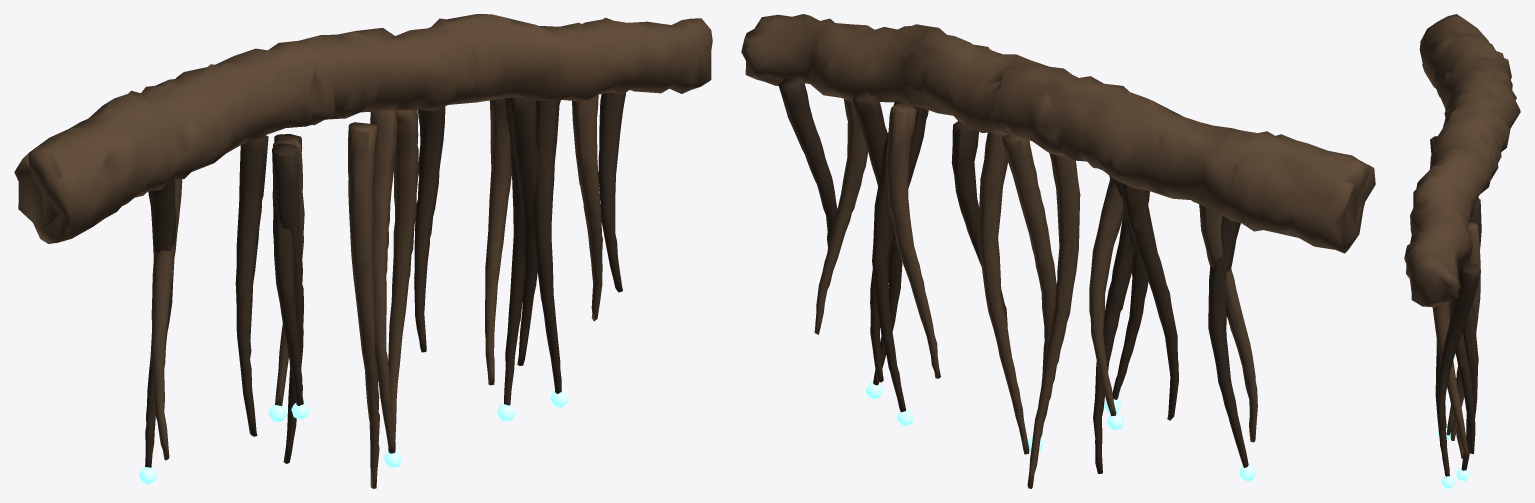
File: mire_root_tangle.glb
3 renders of one model, left to right at view 1: azimuth 30°, elevation 25°; view 2: azimuth 150°, elevation 25°; view 3: azimuth 270°, elevation 25°, orthographic. The views are drawn at different scales.
Visible parts, largest first — view 1: mire_root_tangle; view 2: mire_root_tangle; view 3: mire_root_tangle.
Part boxes in pixels (bbox=[...]): mire_root_tangle: bbox=[14, 14, 712, 488]; mire_root_tangle: bbox=[741, 14, 1375, 488]; mire_root_tangle: bbox=[1404, 14, 1520, 488].
Bounding box in the file's own units: 14.34 × 9.43 × 2.92.
